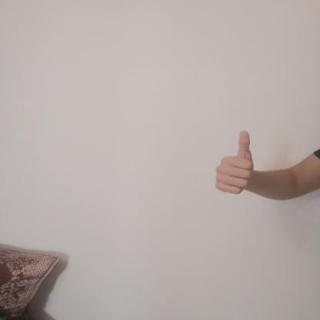ALIF: (204, 124, 264, 198)
